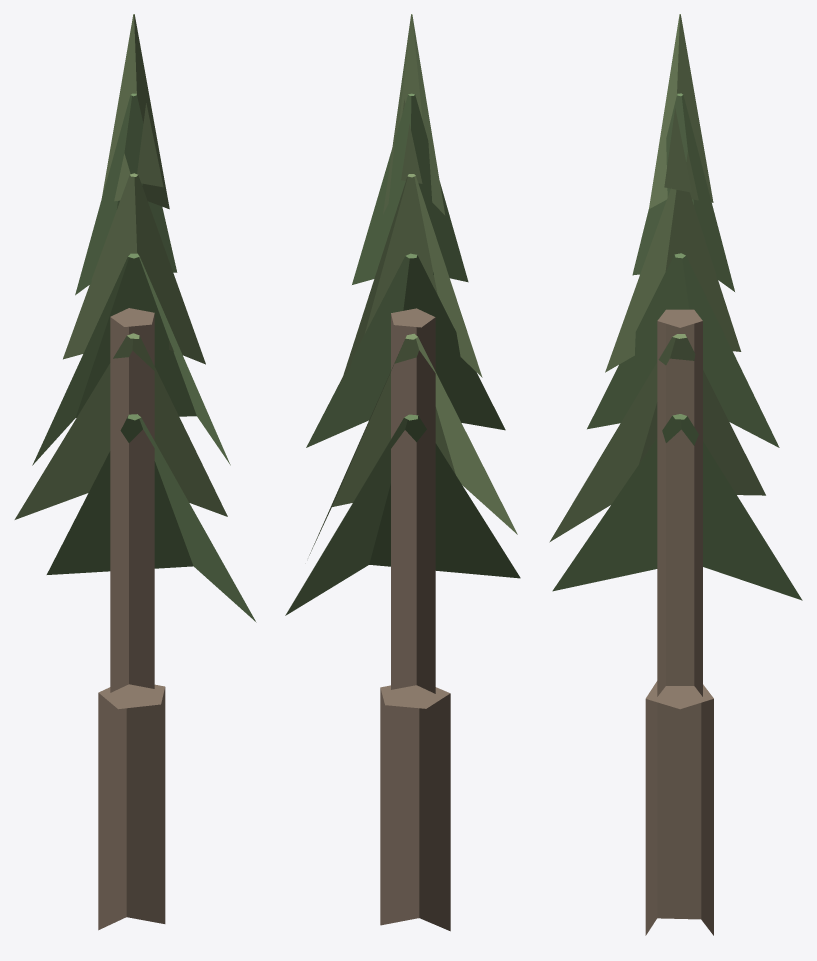
Rendered from tree.cold.larch__spring.glb.
3 renders of one model, left to right at view 1: azimuth 30°, elevation 25°; view 2: azimuth 150°, elevation 25°; view 3: azimuth 270°, elevation 25°, orthographic.
Parts seen in each view (by area): view 1: tree.cold.larch__spring; view 2: tree.cold.larch__spring; view 3: tree.cold.larch__spring.
Part boxes in pixels (x1=…): tree.cold.larch__spring: x1=14, y1=14, x2=256, y2=930; tree.cold.larch__spring: x1=285, y1=14, x2=520, y2=931; tree.cold.larch__spring: x1=549, y1=14, x2=802, y2=935.
Bounding box in the file's own units: 4.02 × 17.75 × 4.44.
